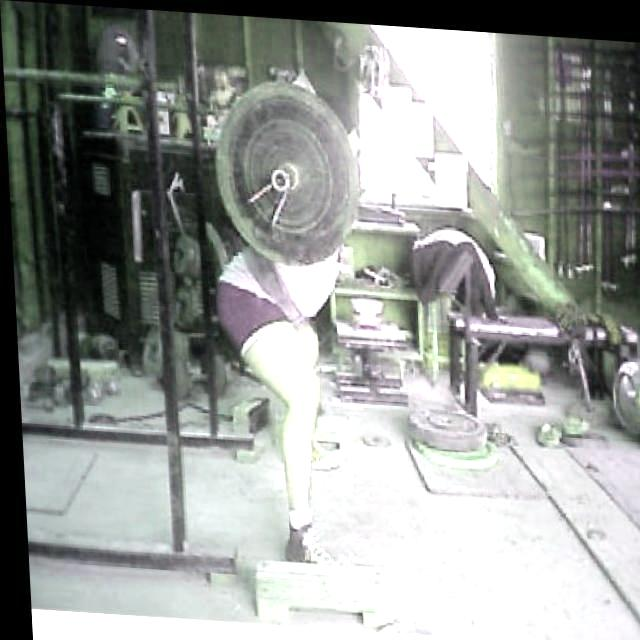barbell: (201, 64, 365, 271)
